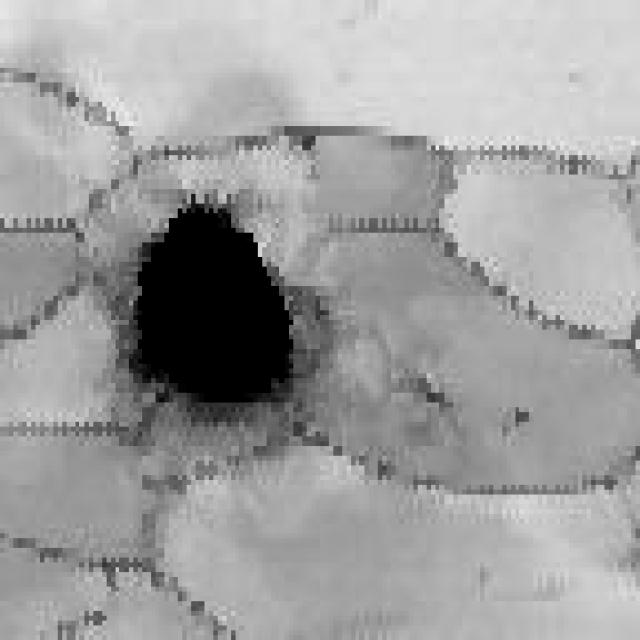good_void: (109, 193, 323, 428), (393, 362, 465, 420), (499, 402, 535, 445)
